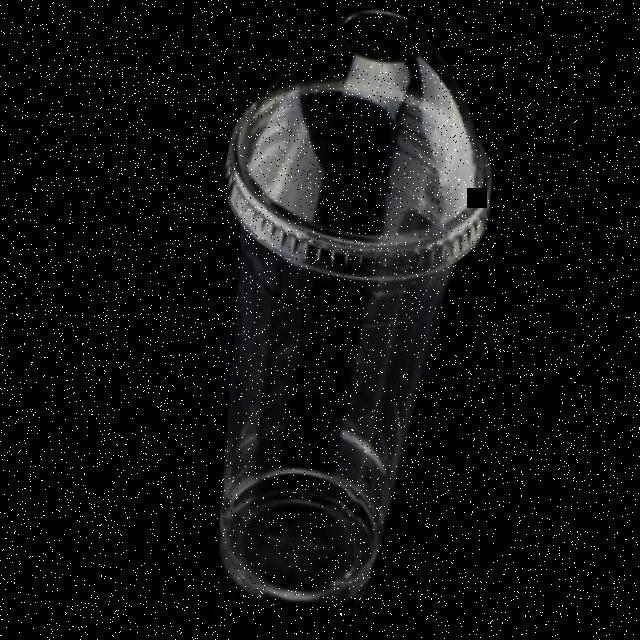plastic_box: (155, 0, 519, 626)
